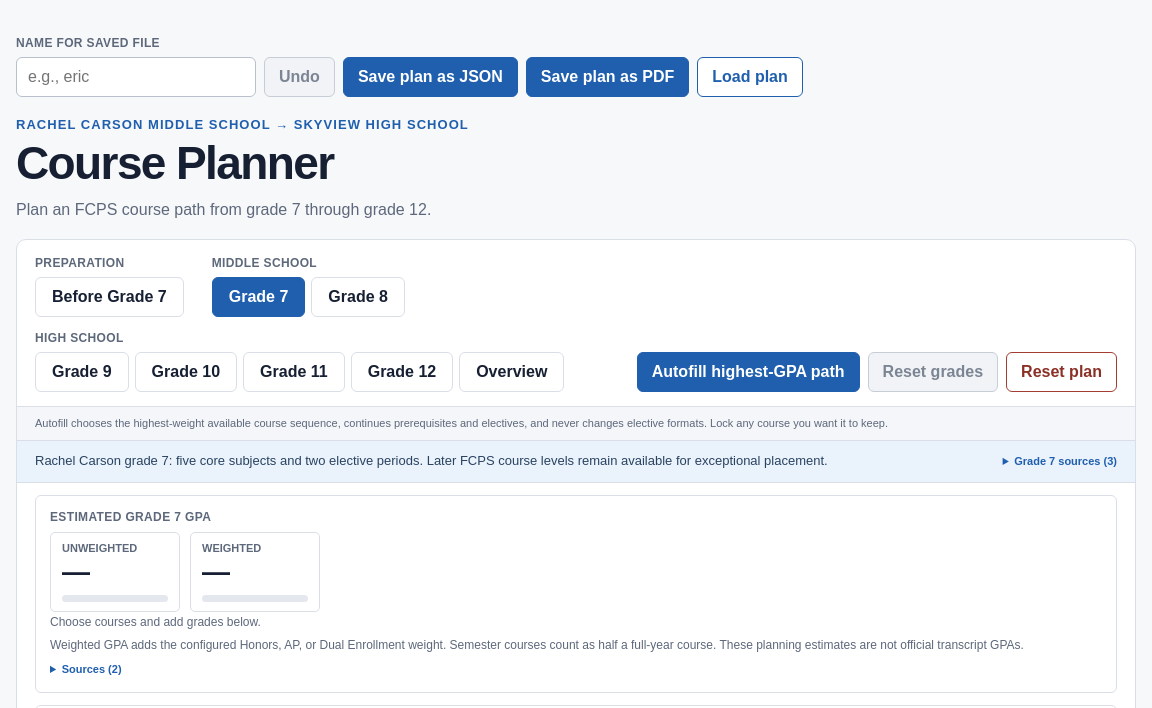
Test: planner navigation and structure › shows courses completed before grade 7 in its own tab and preserves its entries
The width and height of the screenshot is (1152, 708).
Step 1. Click the button "Before Grade 7" → (109, 297), box [35,277,184,317]
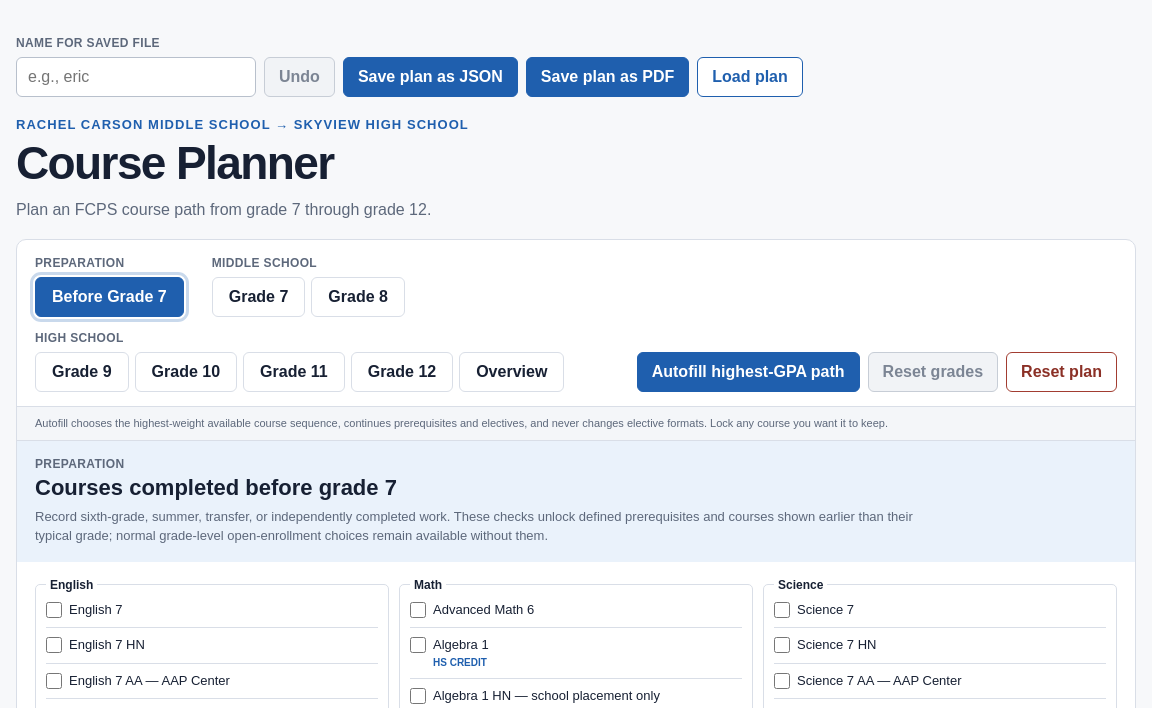
Now the button "Before Grade 7" is pressed, box [35,277,184,317]
Step 2. Click the checkbox labelled "Advanced Math 6" → (418, 610), box [410,602,426,618]
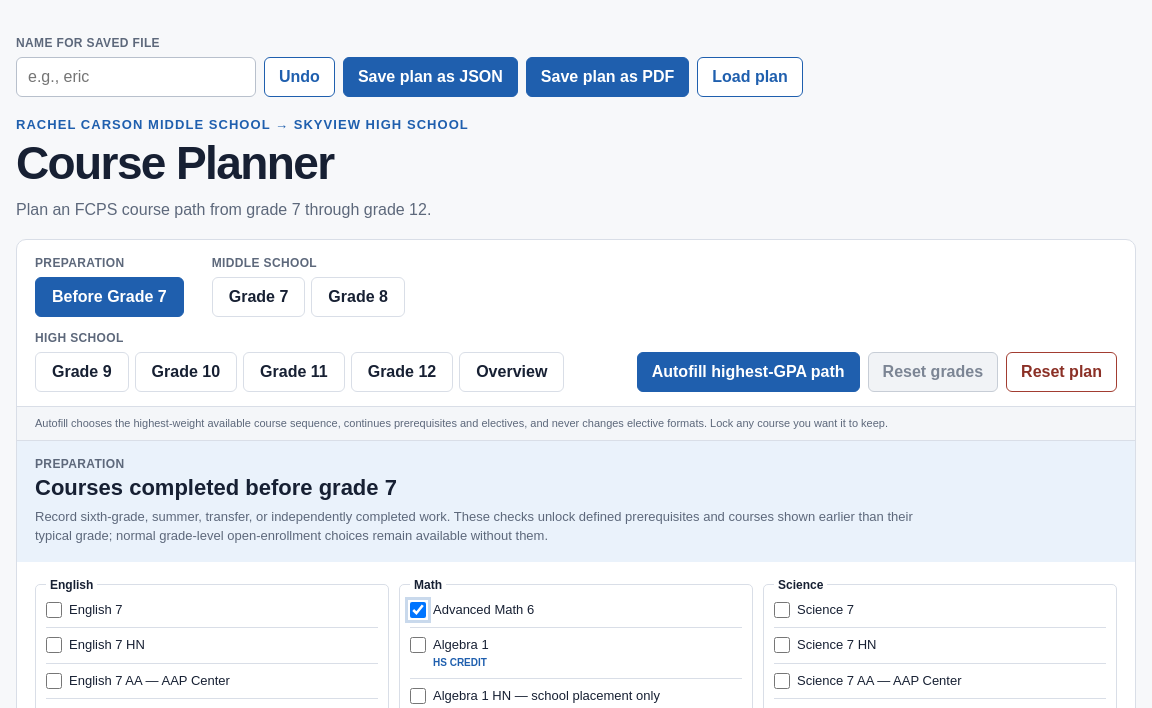
Step 3. Click the button "Grade 7" → (258, 297), box [212,277,305,317]
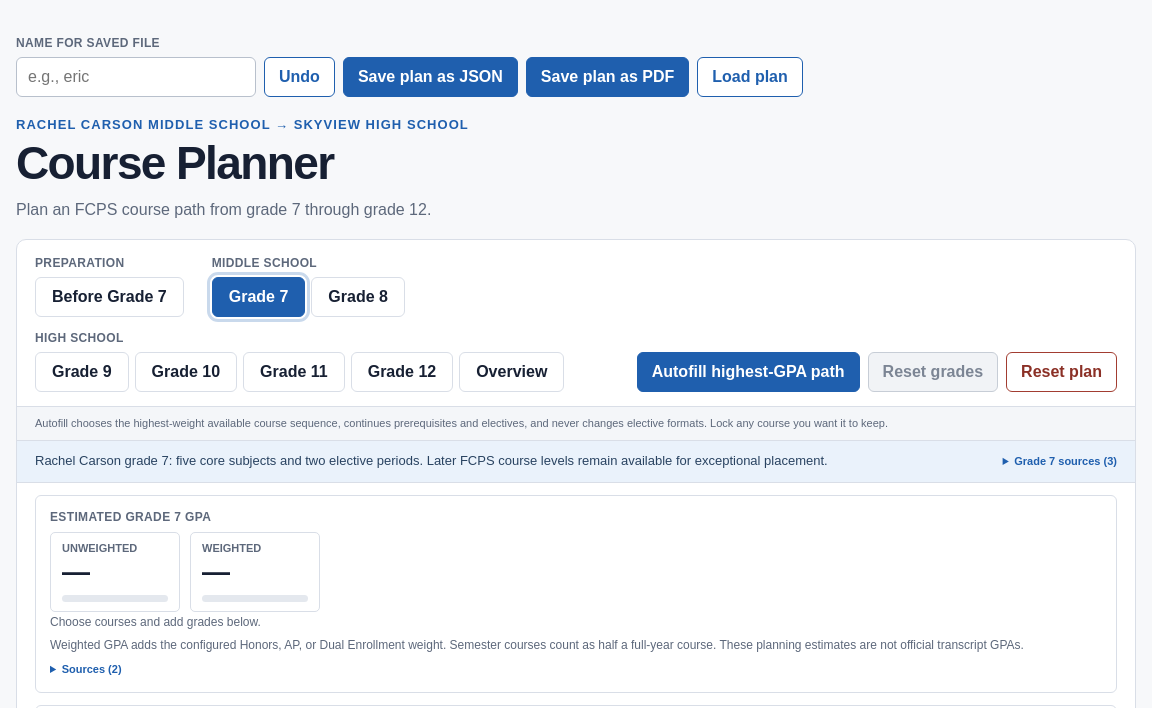
Now the heading "Courses completed before grade 7" is gone
Step 4. Click the button "Before Grade 7" → (109, 297), box [35,277,184,317]
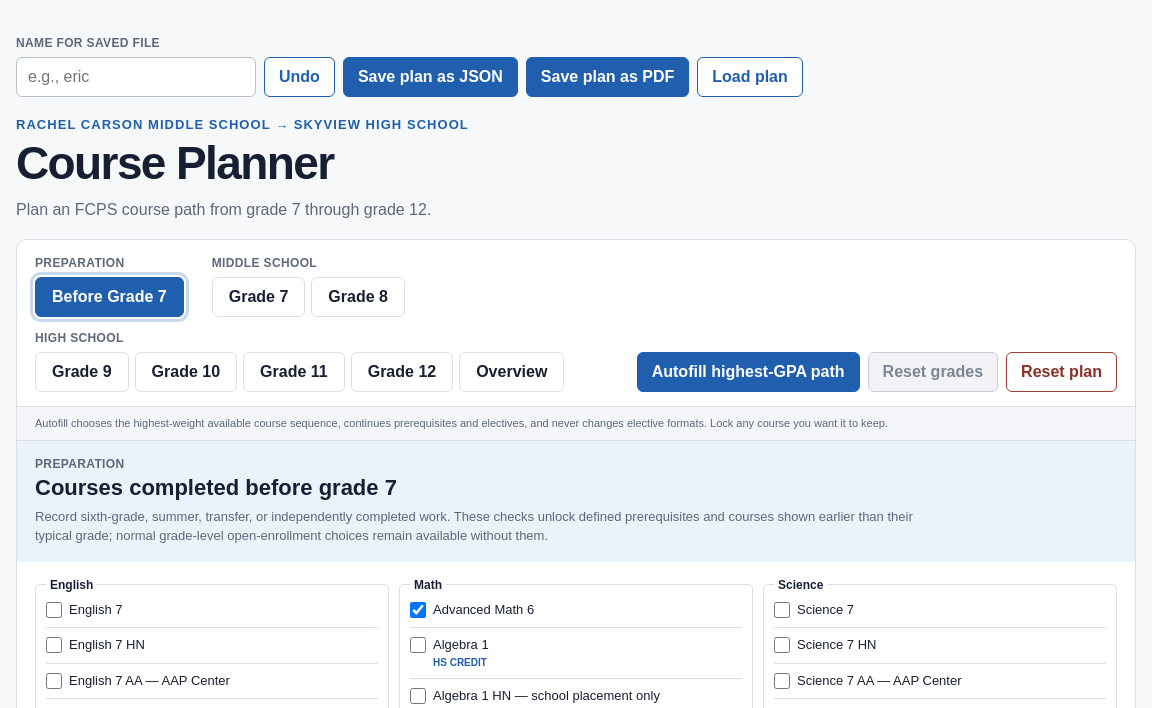
Now the checkbox labelled "Advanced Math 6" is checked, box [410,602,426,618]
